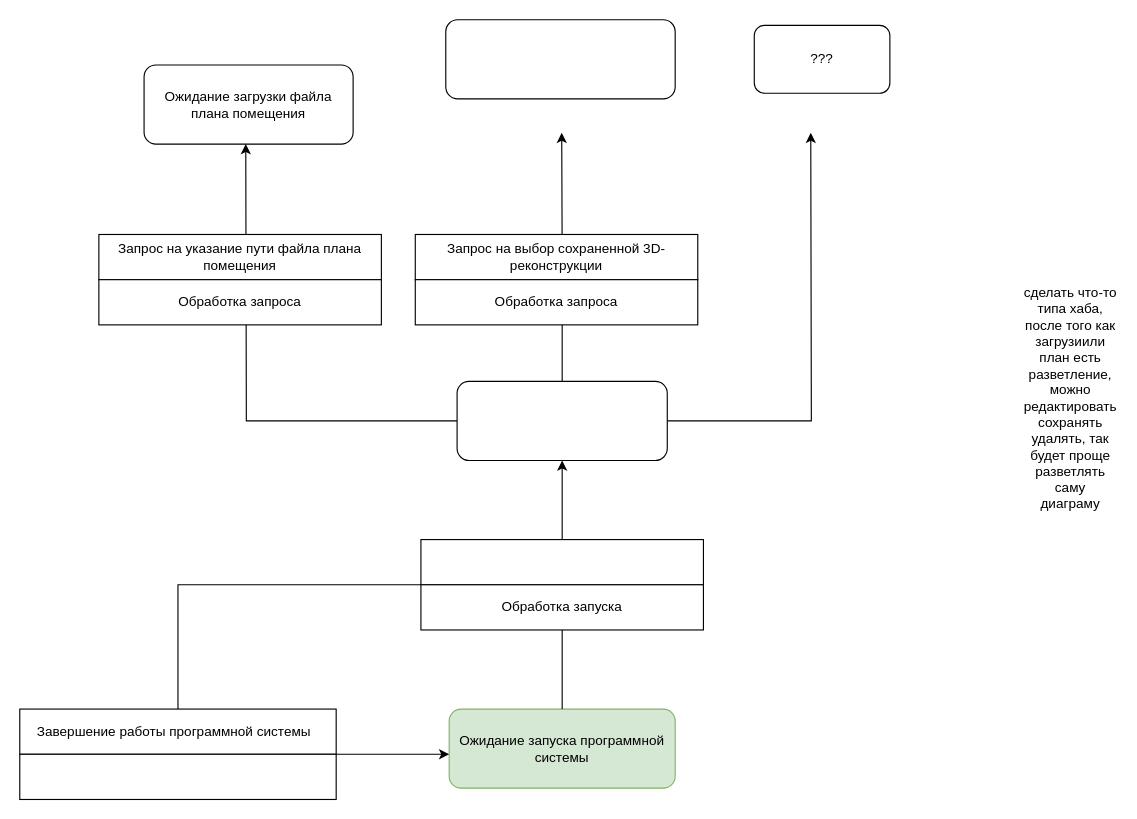
The diagram is 1137 pixels wide and 819 high, and some of its shapes have lost their labels. Here are the shapes that lost their labels. From the top down, the box of each, then its label:
(445, 19, 675, 99): Ожидание вывода 3D-реконструции плана помещения пользователю
(456, 380, 667, 460): Ожидание дальнейших действий
(420, 538, 703, 585): Программная система запущена
(19, 753, 336, 799): Обработка завершения
